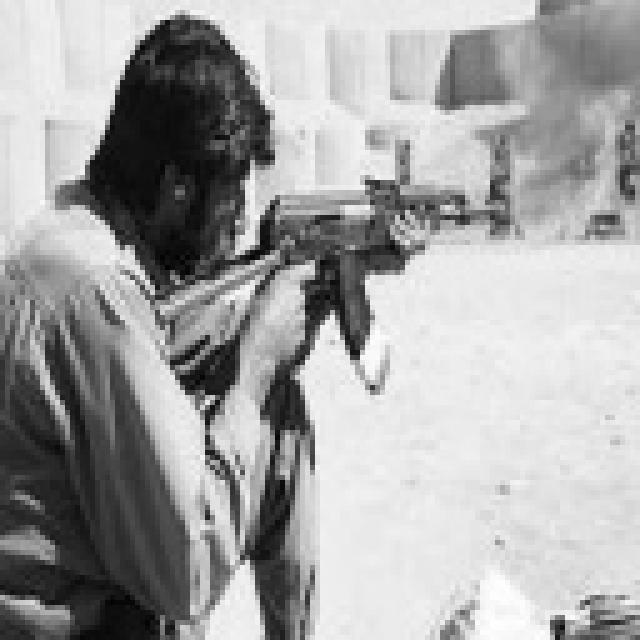Rifle: (125, 122, 524, 416)
